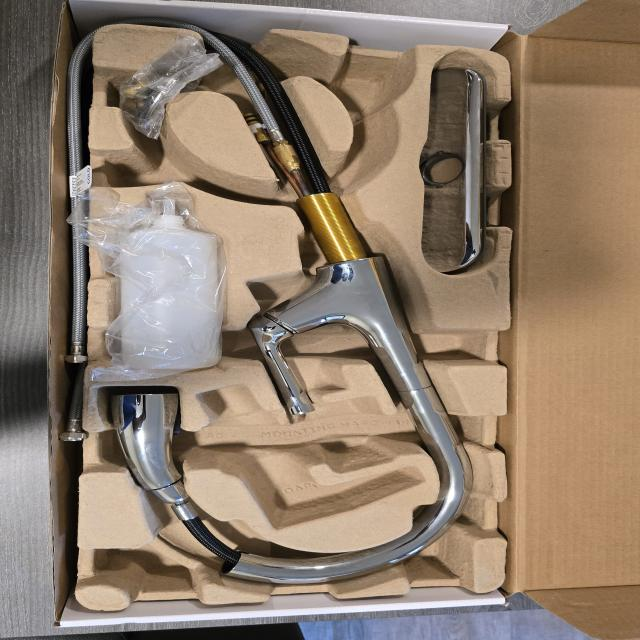1: (111, 25, 473, 584)
2m: (196, 384, 424, 528)
3: (120, 195, 224, 368)
4: (421, 68, 483, 273)
5m: (334, 63, 407, 116)
6: (116, 37, 231, 139)
7m: (105, 141, 234, 197)
